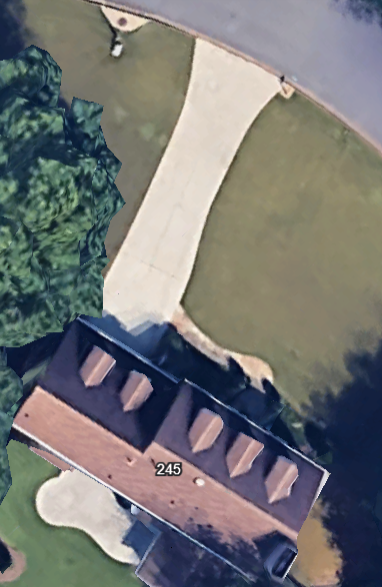driveway: (72, 38, 283, 344)
